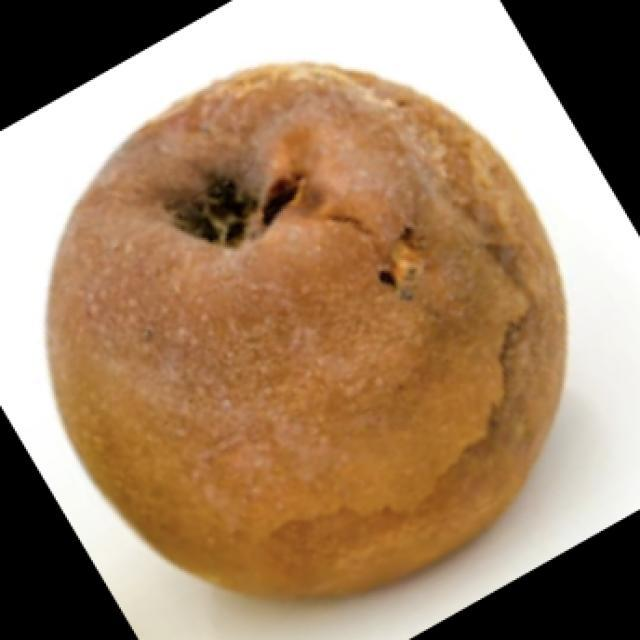Rotten: (70, 84, 530, 604)
